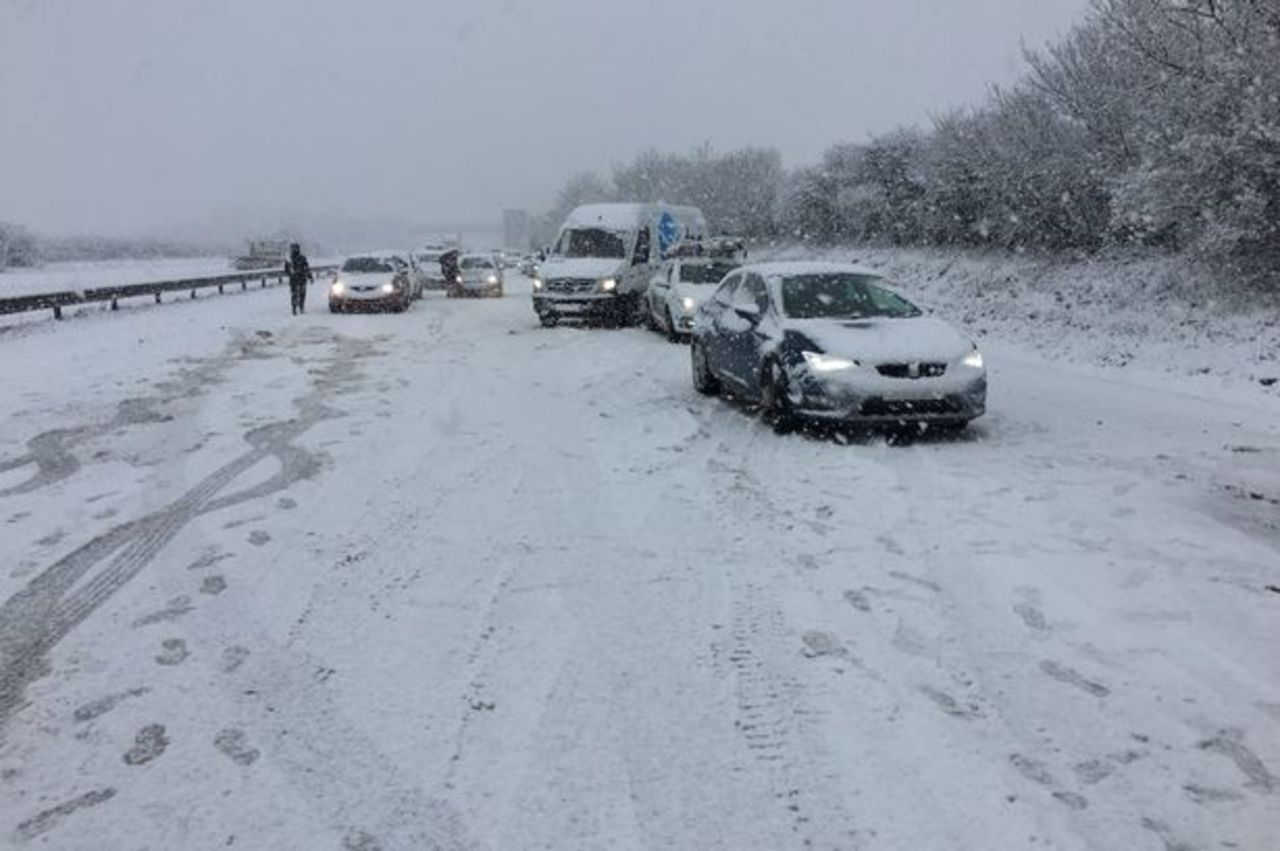car: (684, 259, 987, 439), (529, 200, 708, 323), (634, 244, 753, 339), (332, 248, 400, 307), (454, 253, 506, 296), (411, 240, 449, 284)
person: (281, 242, 309, 316), (438, 240, 460, 300)
